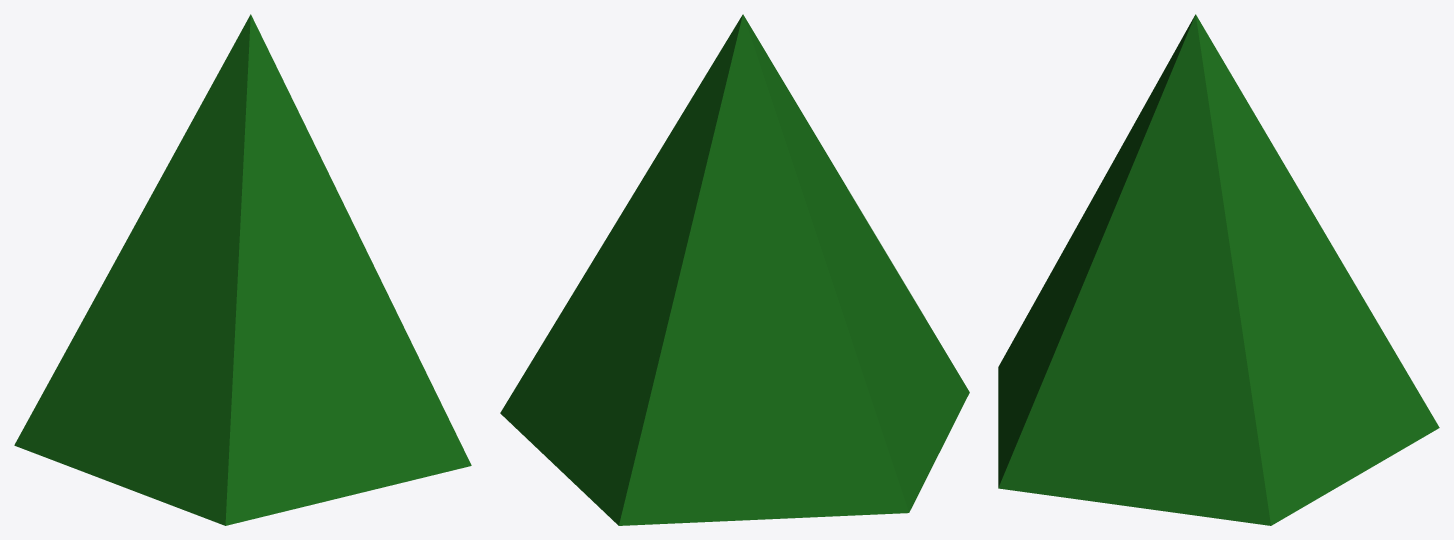
Rendered from pine_tree.fbx.
The picture shows the model from 3 angles, left to right: view 1: azimuth 30°, elevation 25°; view 2: azimuth 150°, elevation 25°; view 3: azimuth 270°, elevation 25°; orthographic projection. The views are drawn at different scales.
Visible parts, largest first — view 1: PineTree; view 2: PineTree; view 3: PineTree.
Part boxes in pixels (x1=…): PineTree: x1=14, y1=14, x2=471, y2=525; PineTree: x1=500, y1=14, x2=969, y2=525; PineTree: x1=998, y1=14, x2=1439, y2=525.
Size of the model in its own units: 173 by 194 by 164.
